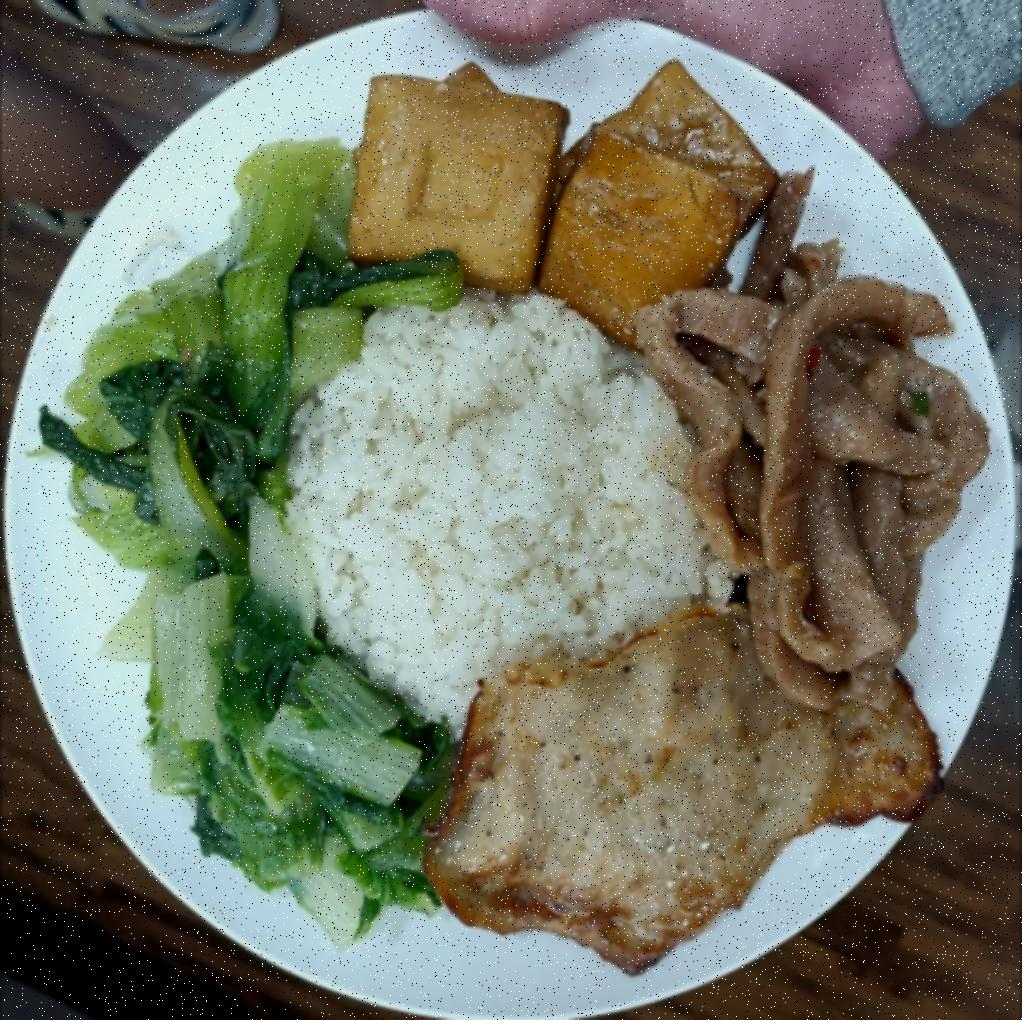grilled chicken steak: (419, 599, 945, 982)
plate: (14, 5, 1021, 1020)
shacha pork: (630, 232, 979, 694)
side dish: (49, 141, 460, 557), (96, 577, 446, 951), (346, 60, 782, 344)
white rice: (286, 293, 728, 729)
